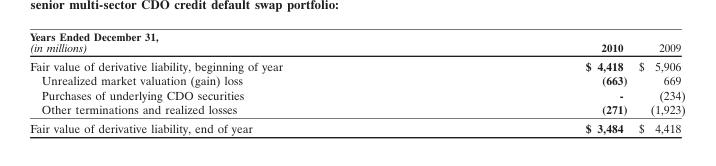table: (29, 29, 684, 135)
table column: (29, 29, 433, 135), (433, 29, 632, 135), (632, 29, 684, 135)
table column header: (29, 29, 684, 56)
table row: (29, 29, 684, 56), (29, 56, 684, 73), (29, 101, 684, 118), (29, 118, 684, 135), (29, 73, 684, 87), (29, 87, 684, 101)
